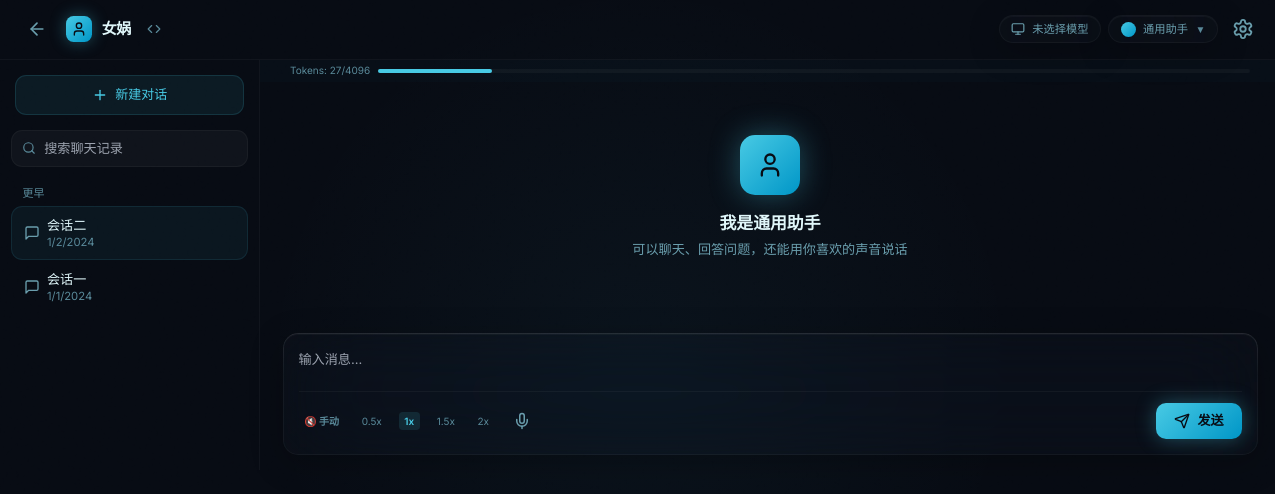
Test: ChatPage stop generation › removes the placeholder without an empty Final_Message when stopped with no content (Req 3.5)
In the text box with placeholder "输入消息...": (770, 361) [298,349,1242,373], type "你好"
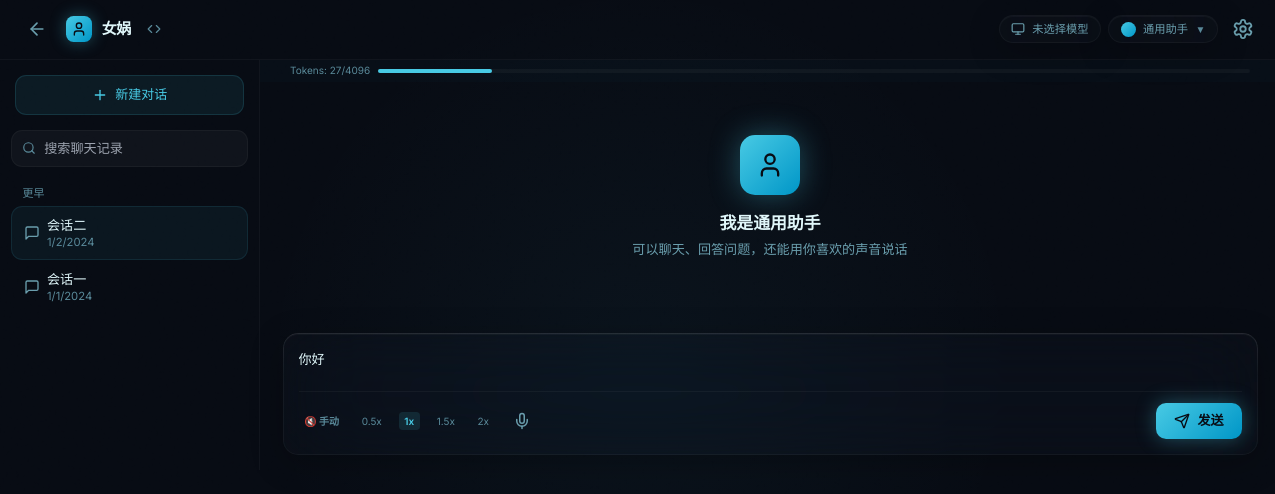
Click the button "发送": (1199, 421) [1156,403,1242,439]
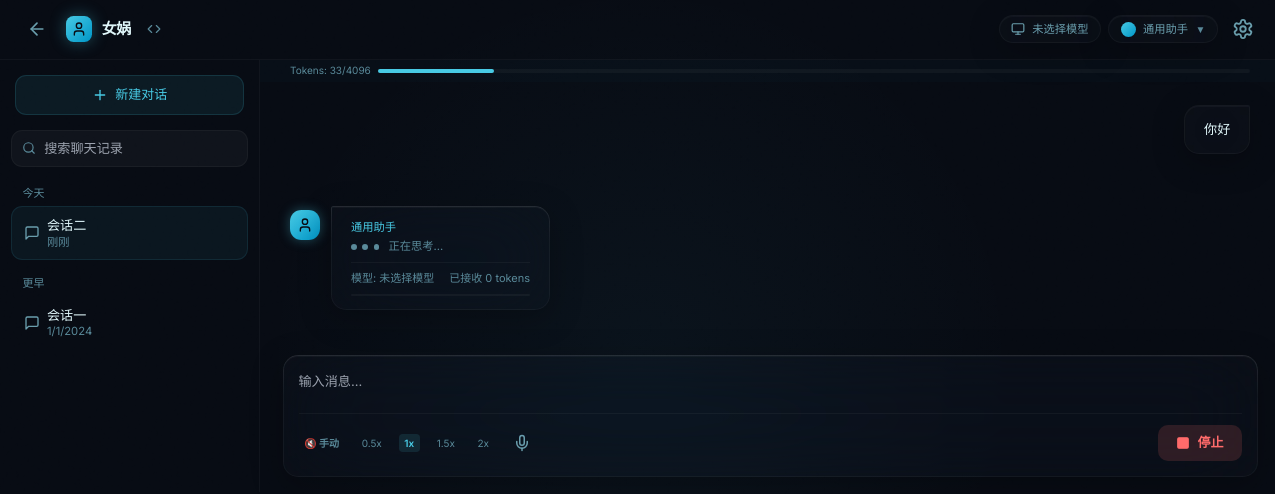
Expected: the text "正在思考..." is shown, [388,239,443,254]
Click the button "停止": (1200, 443) [1158,425,1242,461]
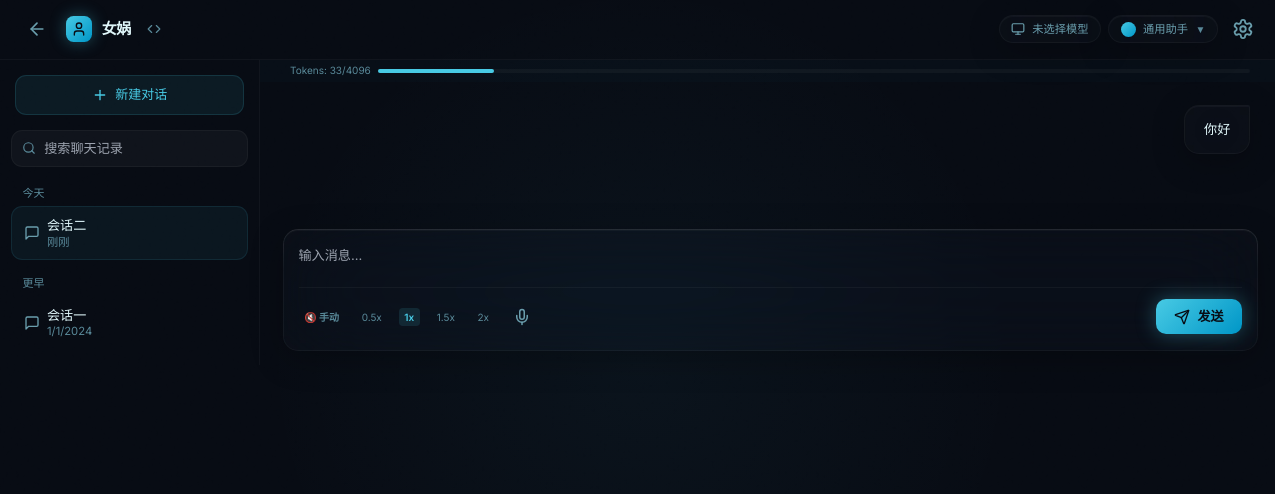
Expected: the text "正在思考..." is gone
